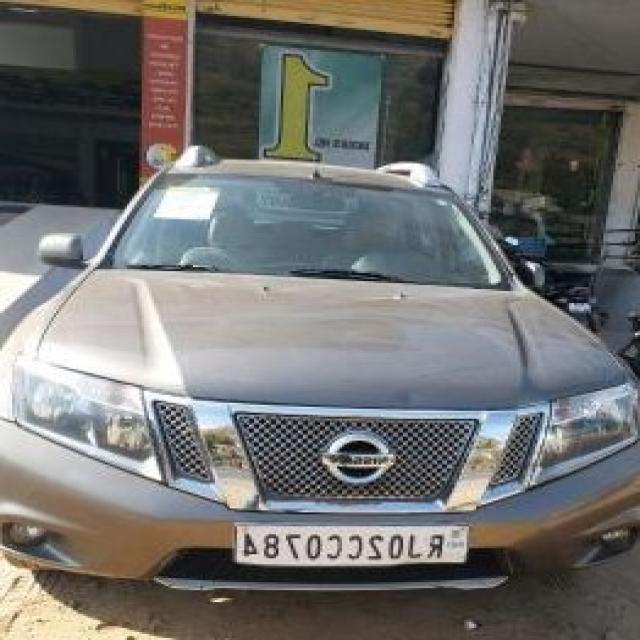number-plate: (241, 519, 464, 564)
